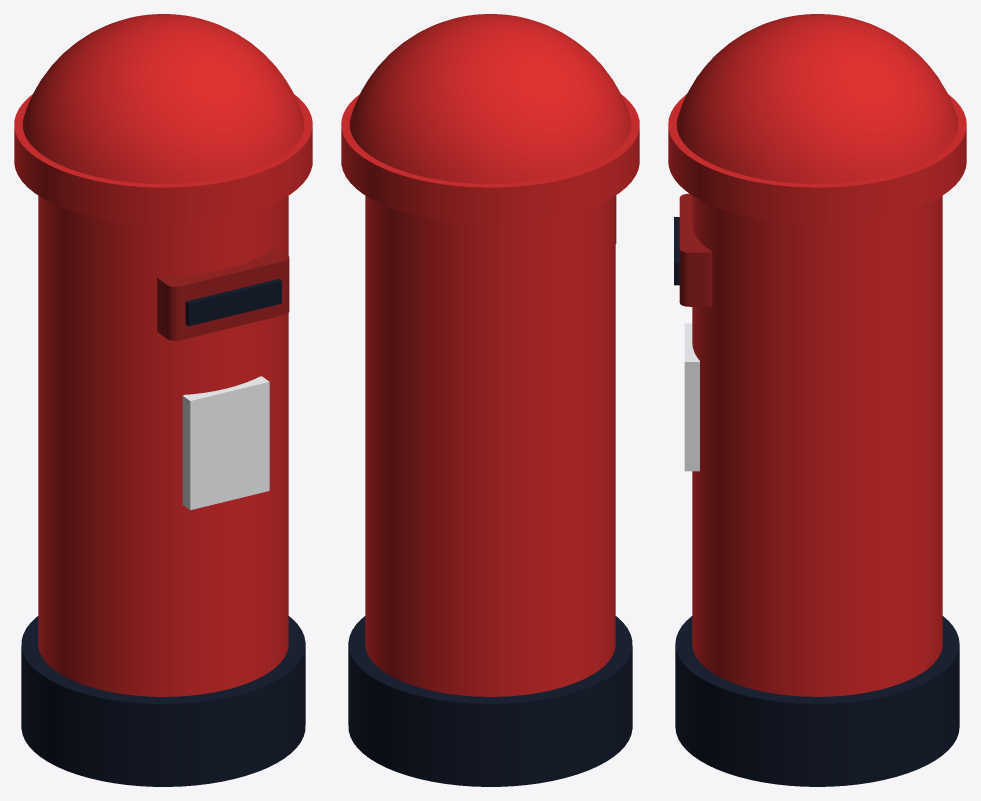
The model's file is post_box.glb.
The picture shows the model from 3 angles, left to right: view 1: azimuth 30°, elevation 25°; view 2: azimuth 150°, elevation 25°; view 3: azimuth 270°, elevation 25°; orthographic projection.
Parts seen in each view (by area): view 1: pb_body, pb_dome, pb_plinth, pb_rim, pb_plaque, pb_slot_f, pb_slot_h; view 2: pb_body, pb_dome, pb_plinth, pb_rim; view 3: pb_body, pb_dome, pb_plinth, pb_rim, pb_slot_f, pb_plaque.
Part boxes in pixels (box(x1,y1,x2,y2)): pb_body: box(38, 195, 288, 696); pb_dome: box(22, 14, 304, 183); pb_plinth: box(21, 616, 305, 786); pb_rim: box(14, 94, 312, 224); pb_plaque: box(182, 376, 269, 509); pb_slot_f: box(157, 247, 289, 340); pb_slot_h: box(185, 279, 281, 326); pb_body: box(365, 195, 615, 696); pb_dome: box(349, 14, 631, 183); pb_plinth: box(348, 616, 632, 786); pb_rim: box(341, 94, 639, 224); pb_body: box(692, 196, 942, 696); pb_dome: box(676, 14, 958, 183); pb_plinth: box(675, 616, 959, 786); pb_rim: box(668, 94, 966, 224); pb_slot_f: box(679, 193, 712, 306); pb_plaque: box(684, 323, 699, 471).
Size of the model in its own units: 0.31 by 0.801 by 0.31.
